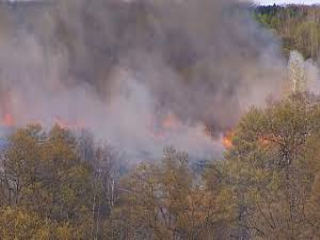fire: (219, 128, 239, 156)
smoke: (15, 6, 315, 142)
